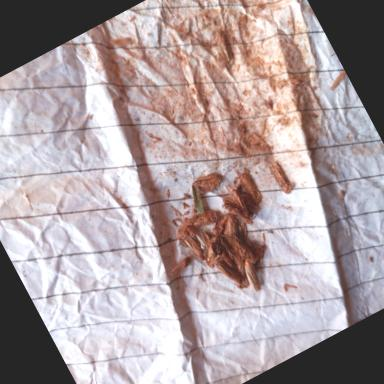pbw: (232, 162, 264, 207), (224, 228, 257, 270), (194, 231, 230, 269), (221, 195, 254, 232), (223, 180, 251, 220), (178, 228, 207, 266), (213, 252, 243, 288), (214, 210, 245, 244), (190, 166, 225, 196), (238, 255, 265, 292), (204, 209, 237, 239), (267, 160, 295, 195), (186, 205, 220, 233), (226, 246, 251, 278), (184, 222, 208, 252), (232, 219, 254, 243)
